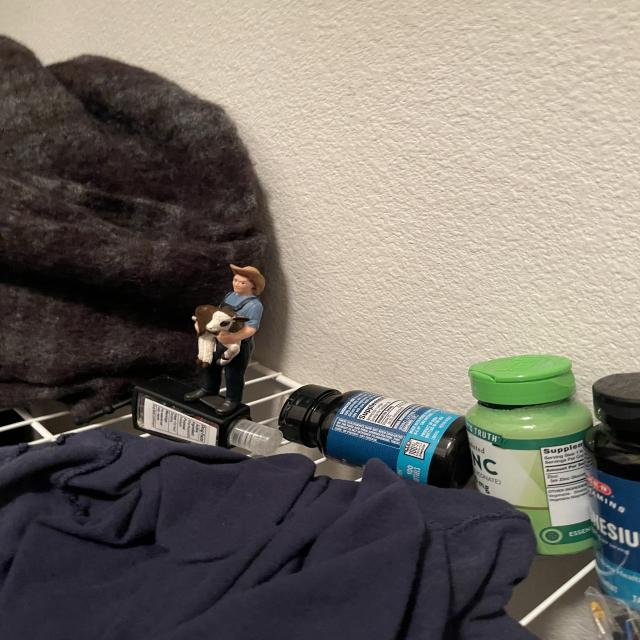cow: (170, 289, 249, 369), (227, 343, 240, 360)
person: (195, 261, 273, 414)
